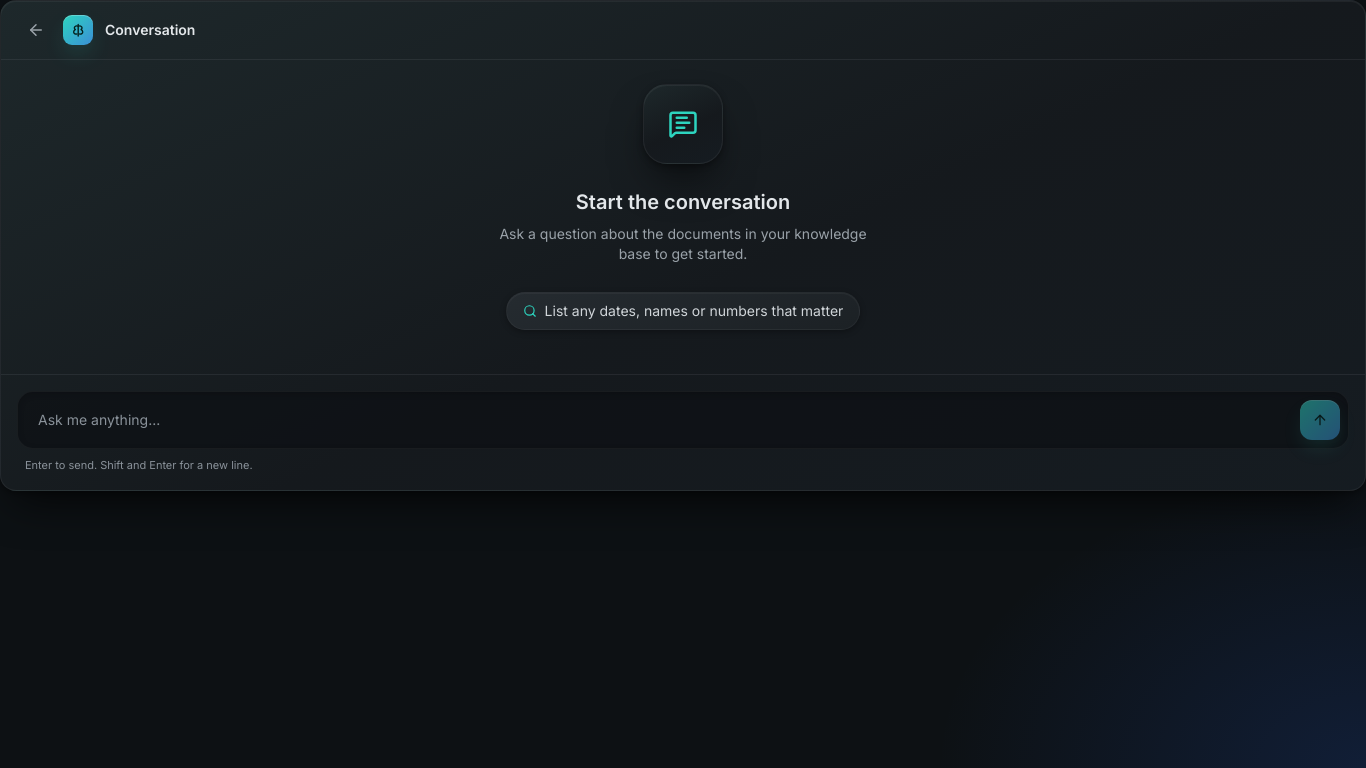
chat streaming › C01 streams an answer with a thinking indicator, status events, bold text and sources
Later steps or results of the test are not shown.
Expected: the heading "Start the conversation" is shown, left=576, top=188, right=790, bottom=216
Type "What is the refund window?" into the text box named "Message" at (659, 420), box left=26, top=400, right=1292, bottom=440
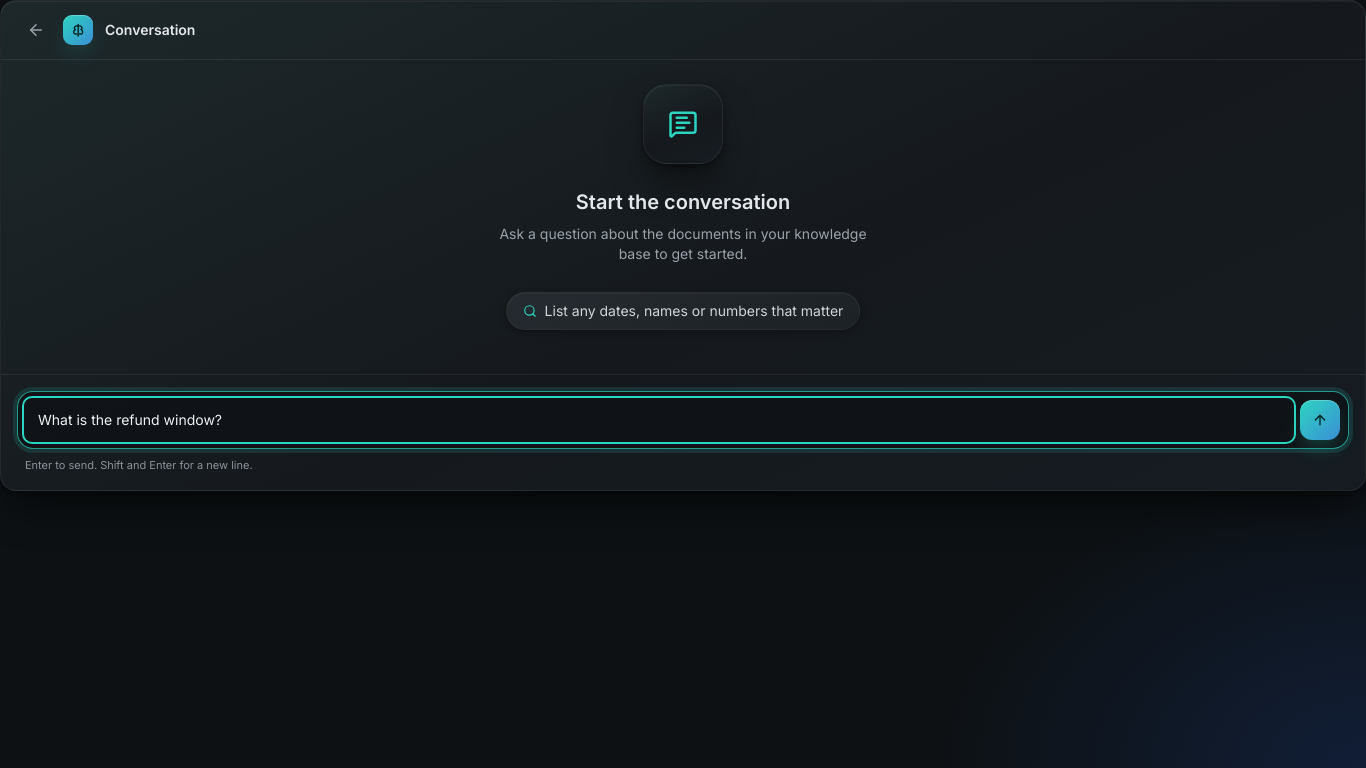
Click the button named "Send" at (1320, 420), box left=1300, top=400, right=1340, bottom=440
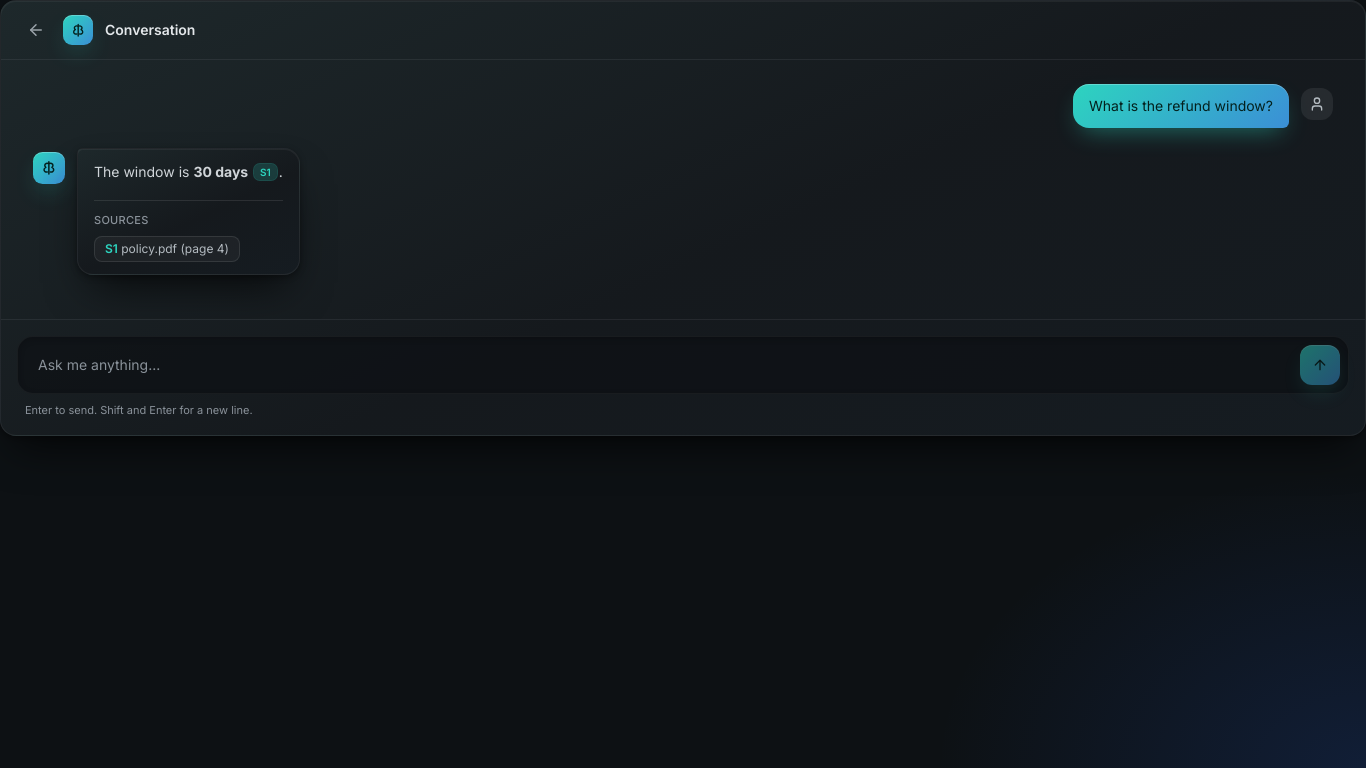
Expected: the text "What is the refund window?" is shown, left=1089, top=96, right=1273, bottom=116
Expected: the text box named "Message" is empty, left=26, top=346, right=1292, bottom=386
Expected: the text "30 days" is shown, left=193, top=163, right=248, bottom=180
